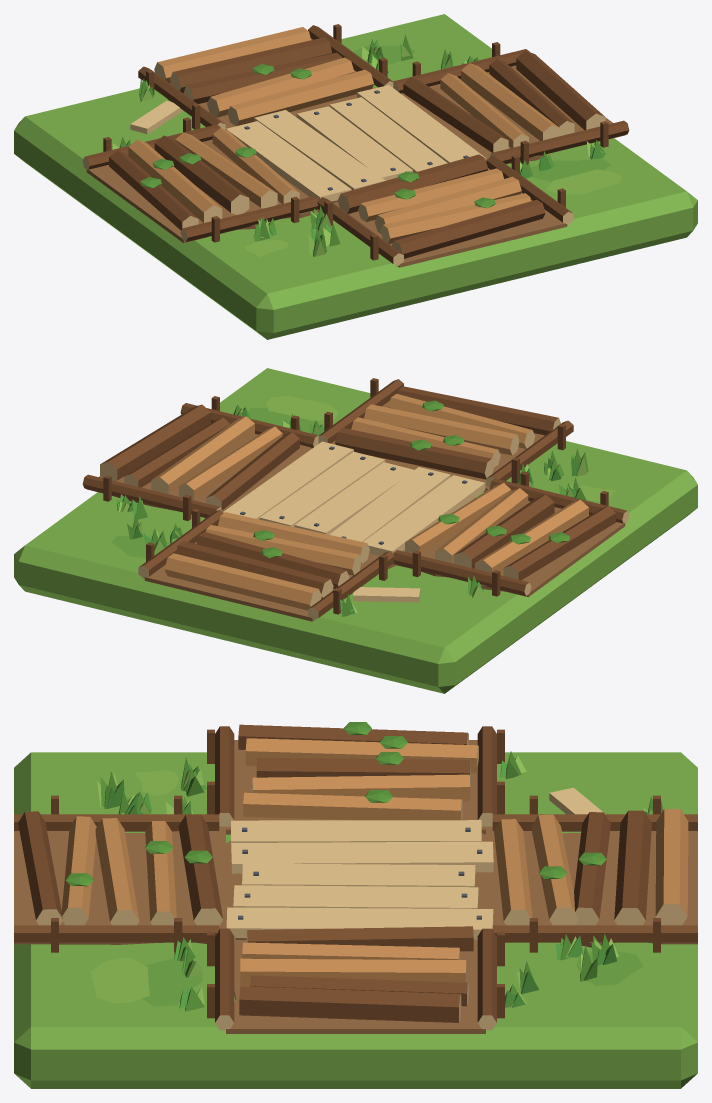
Rendered from road_l2_c.fbx.
The picture shows the model from 3 angles, top to bottom: view 1: azimuth 30°, elevation 25°; view 2: azimuth 150°, elevation 25°; view 3: azimuth 270°, elevation 25°; orthographic projection. The views are drawn at different scales.
Parts seen in each view (by area): view 1: road_l2_c, Road_YPlus, Road_YMinus, Road_XPlus, Road_XMinus; view 2: road_l2_c, Road_YMinus, Road_XPlus, Road_YPlus, Road_XMinus; view 3: road_l2_c, Road_XMinus, Road_YMinus, Road_XPlus, Road_YPlus.
Part boxes in pixels (x1,y1,x2,y2): road_l2_c: [14, 14, 697, 339]; Road_YPlus: [310, 154, 573, 267]; Road_YMinus: [130, 24, 393, 134]; Road_XPlus: [82, 117, 319, 243]; Road_XMinus: [393, 42, 629, 171]; road_l2_c: [14, 368, 697, 693]; Road_YMinus: [138, 509, 420, 621]; Road_XPlus: [393, 471, 629, 598]; Road_YPlus: [309, 378, 573, 491]; Road_XMinus: [82, 396, 318, 520]; road_l2_c: [14, 752, 697, 1088]; Road_XMinus: [179, 926, 526, 1033]; Road_YMinus: [486, 787, 697, 965]; Road_XPlus: [181, 722, 526, 834]; Road_YPlus: [14, 790, 225, 961].
Bounding box in the file's own units: 1 × 0.1553 × 1.
